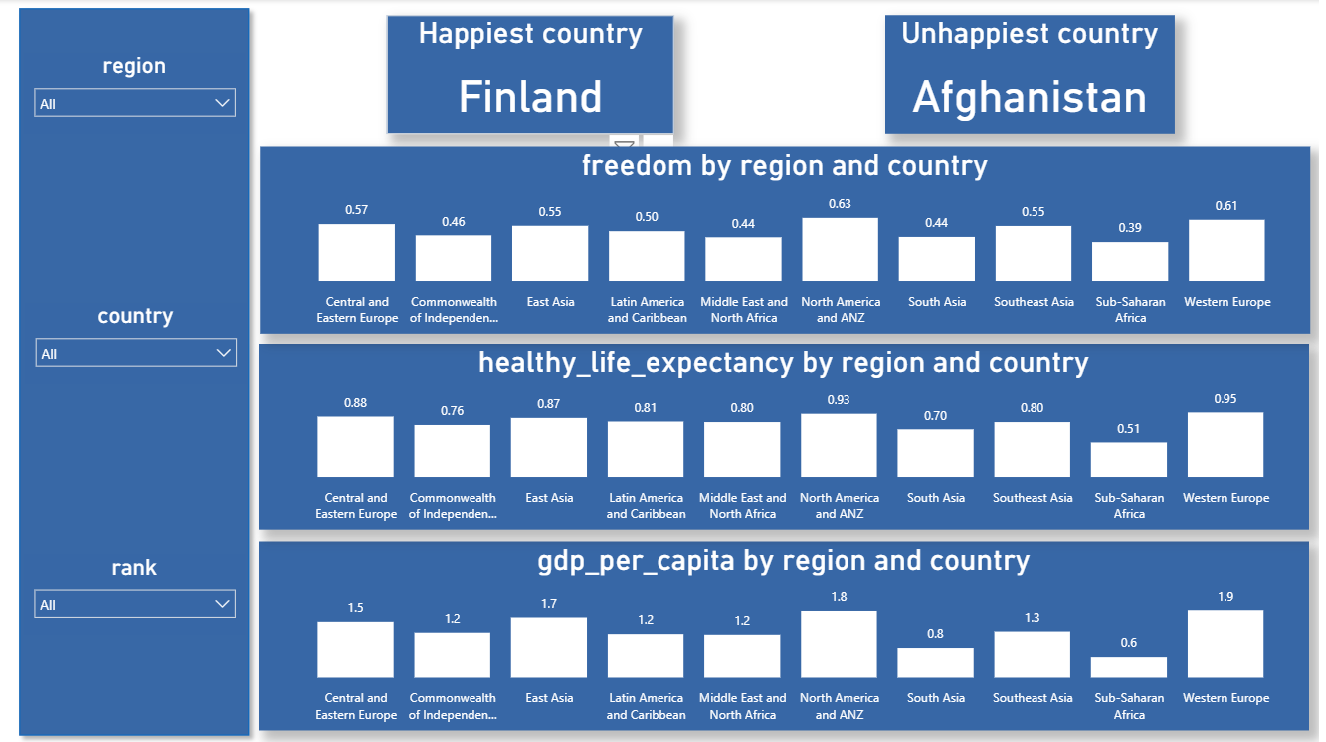

The dashboard page shown, as its layout file describes it:
{"tool":"powerbi","page":{"name":"overall","canvas":[1280,720],"ordinal":1},"visuals":[{"type":"card","title":"Happiest country","fields":{"Values":["Min(world_happiness_2026 (3).country)"]},"box":[374.9,15.7,279.4,114],"z":0},{"type":"card","title":"Unhappiest country","fields":{"Values":["Min(world_happiness_2026 (3).country)"]},"box":[859.5,15.7,280.8,114],"z":1000},{"type":"shape","box":[10,0,240.9,719.8],"z":2000},{"type":"slicer","title":"country","fields":{"Values":["world_happiness_2026 (3).country"]},"box":[24.2,293.6,215.2,78.4],"z":3000},{"type":"slicer","title":"region","fields":{"Values":["world_happiness_2026 (3).region"]},"box":[22.8,51.3,215.2,78.4],"z":4000},{"type":"slicer","title":"rank","fields":{"Values":["world_happiness_2026 (3).rank"]},"box":[22.8,535.9,215.2,78.4],"z":5000},{"type":"columnChart","title":"gdp_per_capita by region and country","fields":{"Category":["world_happiness_2026 (3).region","world_happiness_2026 (3).country"],"Y":["Avg(world_happiness_2026 (3).gdp_per_capita)"]},"box":[250.9,523.1,1019.2,182.4],"z":6000},{"type":"columnChart","title":"healthy_life_expectancy by region and country","fields":{"Category":["world_happiness_2026 (3).region","world_happiness_2026 (3).country"],"Y":["Avg(world_happiness_2026 (3).healthy_life_expectancy)"]},"box":[250.9,333.5,1019.2,179.6],"z":7000},{"type":"columnChart","title":"freedom by region and country","fields":{"Category":["world_happiness_2026 (3).region","world_happiness_2026 (3).country"],"Y":["Avg(world_happiness_2026 (3).freedom)"]},"box":[252.3,142.5,1019.2,181],"z":8000}]}

Visuals, with their boxes in screenshot pixels (x1, y1, x2, y2), scaled from the page's 1280x720 canvas onto the 1326x742 screenshot:
"Happiest country" card: {"x1": 388, "y1": 16, "x2": 678, "y2": 134}
"Unhappiest country" card: {"x1": 890, "y1": 16, "x2": 1181, "y2": 134}
shape: {"x1": 10, "y1": 0, "x2": 260, "y2": 741}
"country" slicer: {"x1": 25, "y1": 303, "x2": 248, "y2": 383}
"region" slicer: {"x1": 24, "y1": 53, "x2": 247, "y2": 134}
"rank" slicer: {"x1": 24, "y1": 552, "x2": 247, "y2": 633}
"gdp_per_capita by region and country" columnChart: {"x1": 260, "y1": 539, "x2": 1316, "y2": 727}
"healthy_life_expectancy by region and country" columnChart: {"x1": 260, "y1": 344, "x2": 1316, "y2": 529}
"freedom by region and country" columnChart: {"x1": 261, "y1": 147, "x2": 1317, "y2": 333}
